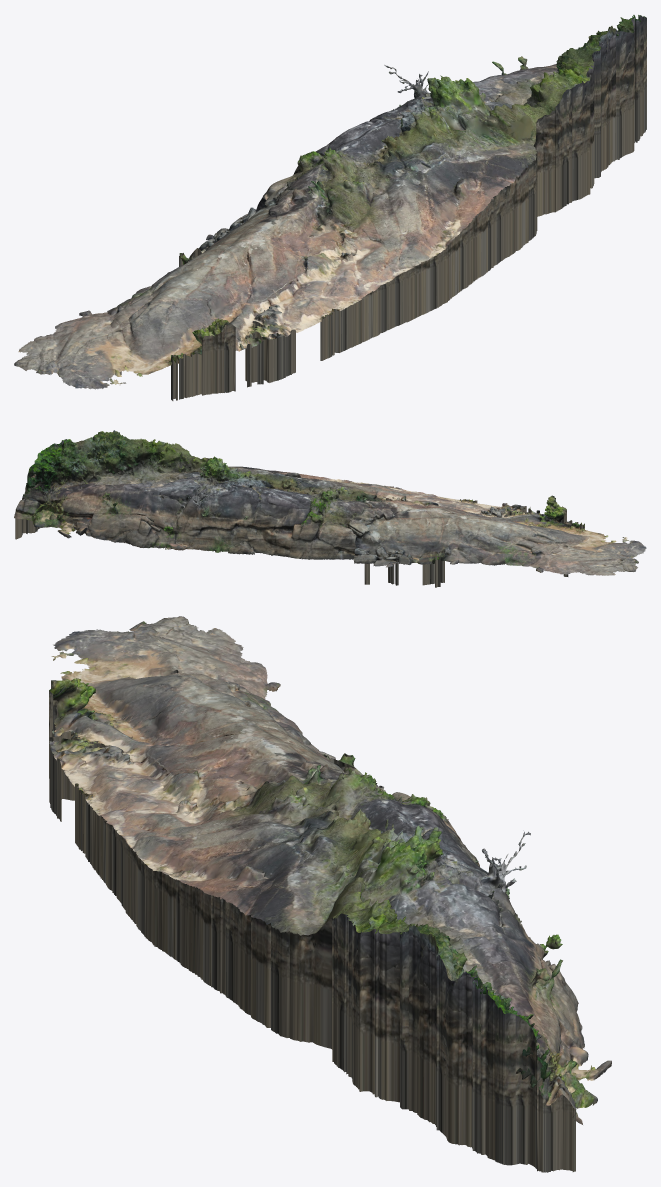
Rendered from pedra_gravuras.glb.
The picture shows the model from 3 angles, top to bottom: view 1: azimuth 30°, elevation 25°; view 2: azimuth 150°, elevation 25°; view 3: azimuth 270°, elevation 25°; orthographic projection. The views are drawn at different scales.
Parts seen in each view (by area): view 1: pedra_riscada; view 2: pedra_riscada; view 3: pedra_riscada.
Boxes of the visible parts, x1=… form: pedra_riscada: x1=14, y1=15, x2=646, y2=400; pedra_riscada: x1=14, y1=430, x2=646, y2=587; pedra_riscada: x1=49, y1=616, x2=611, y2=1172.
Size of the model in its own units: 56.73 by 9.87 by 26.48.
Materials: 1 (1 with a texture image).
